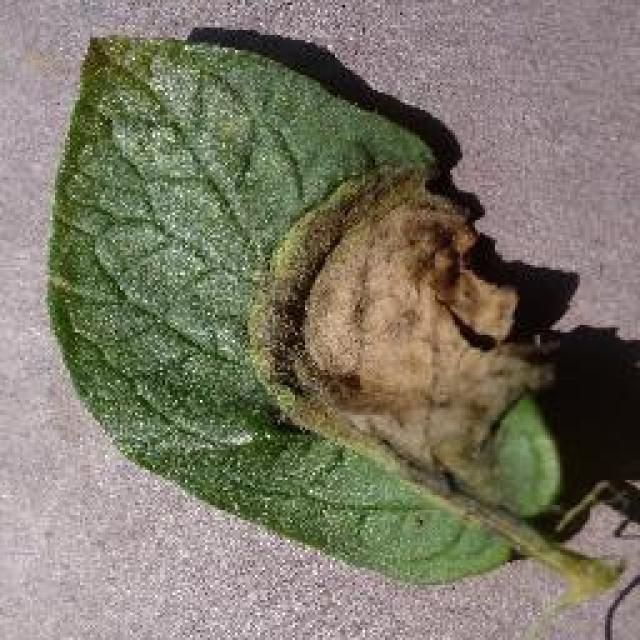late_blight: (40, 28, 602, 592)
